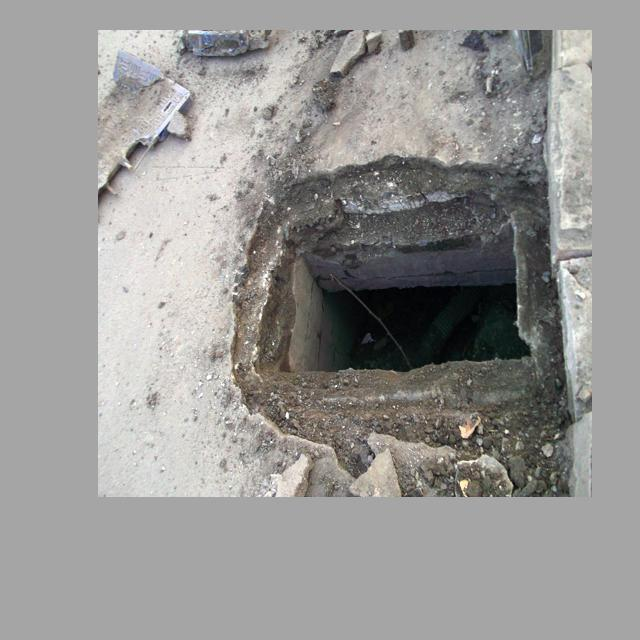lose: (281, 218, 534, 375)
